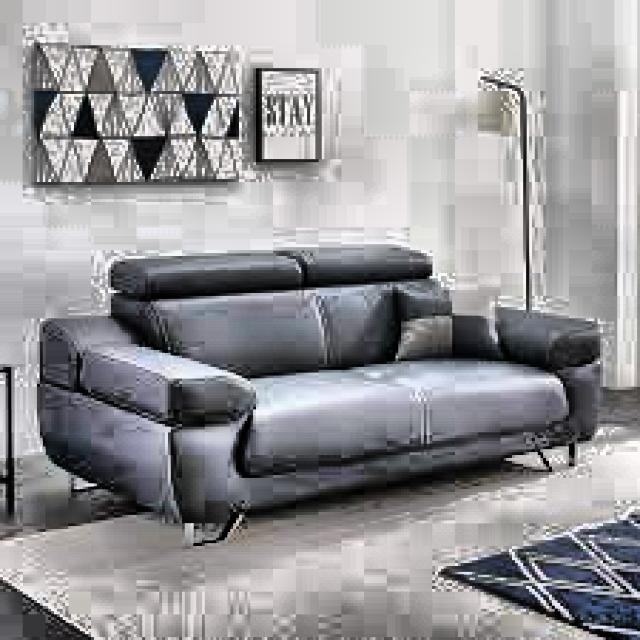sofa: (29, 250, 598, 546)
